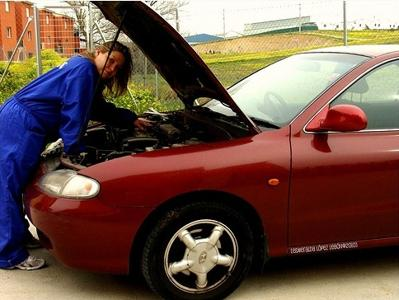person: (2, 42, 150, 271)
